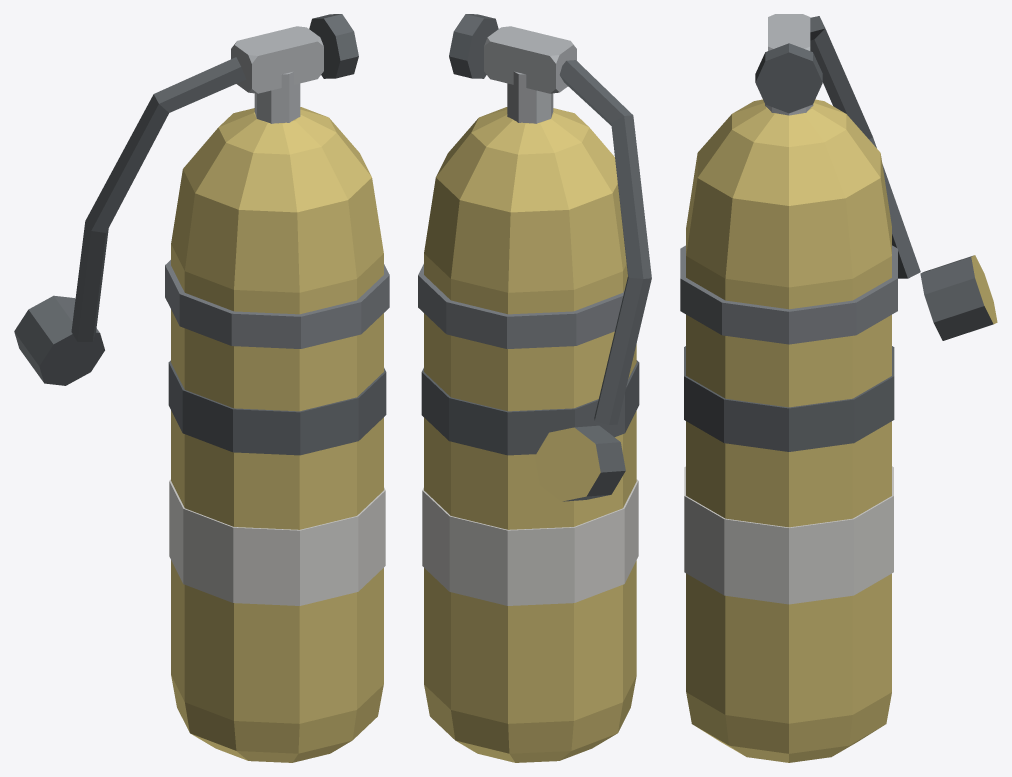
File: gear_oxygen_tank.glb
The picture shows the model from 3 angles, left to right: view 1: azimuth 30°, elevation 25°; view 2: azimuth 150°, elevation 25°; view 3: azimuth 270°, elevation 25°; orthographic projection.
Parts seen in each view (by area): view 1: gear_oxygen_tank; view 2: gear_oxygen_tank; view 3: gear_oxygen_tank.
Boxes of the visible parts, left/top/right/bottom form: gear_oxygen_tank: left=14, top=14, right=389, bottom=762; gear_oxygen_tank: left=418, top=14, right=651, bottom=762; gear_oxygen_tank: left=680, top=14, right=997, bottom=762.
Bounding box in the file's own units: 0.257 × 0.653 × 0.2636.
